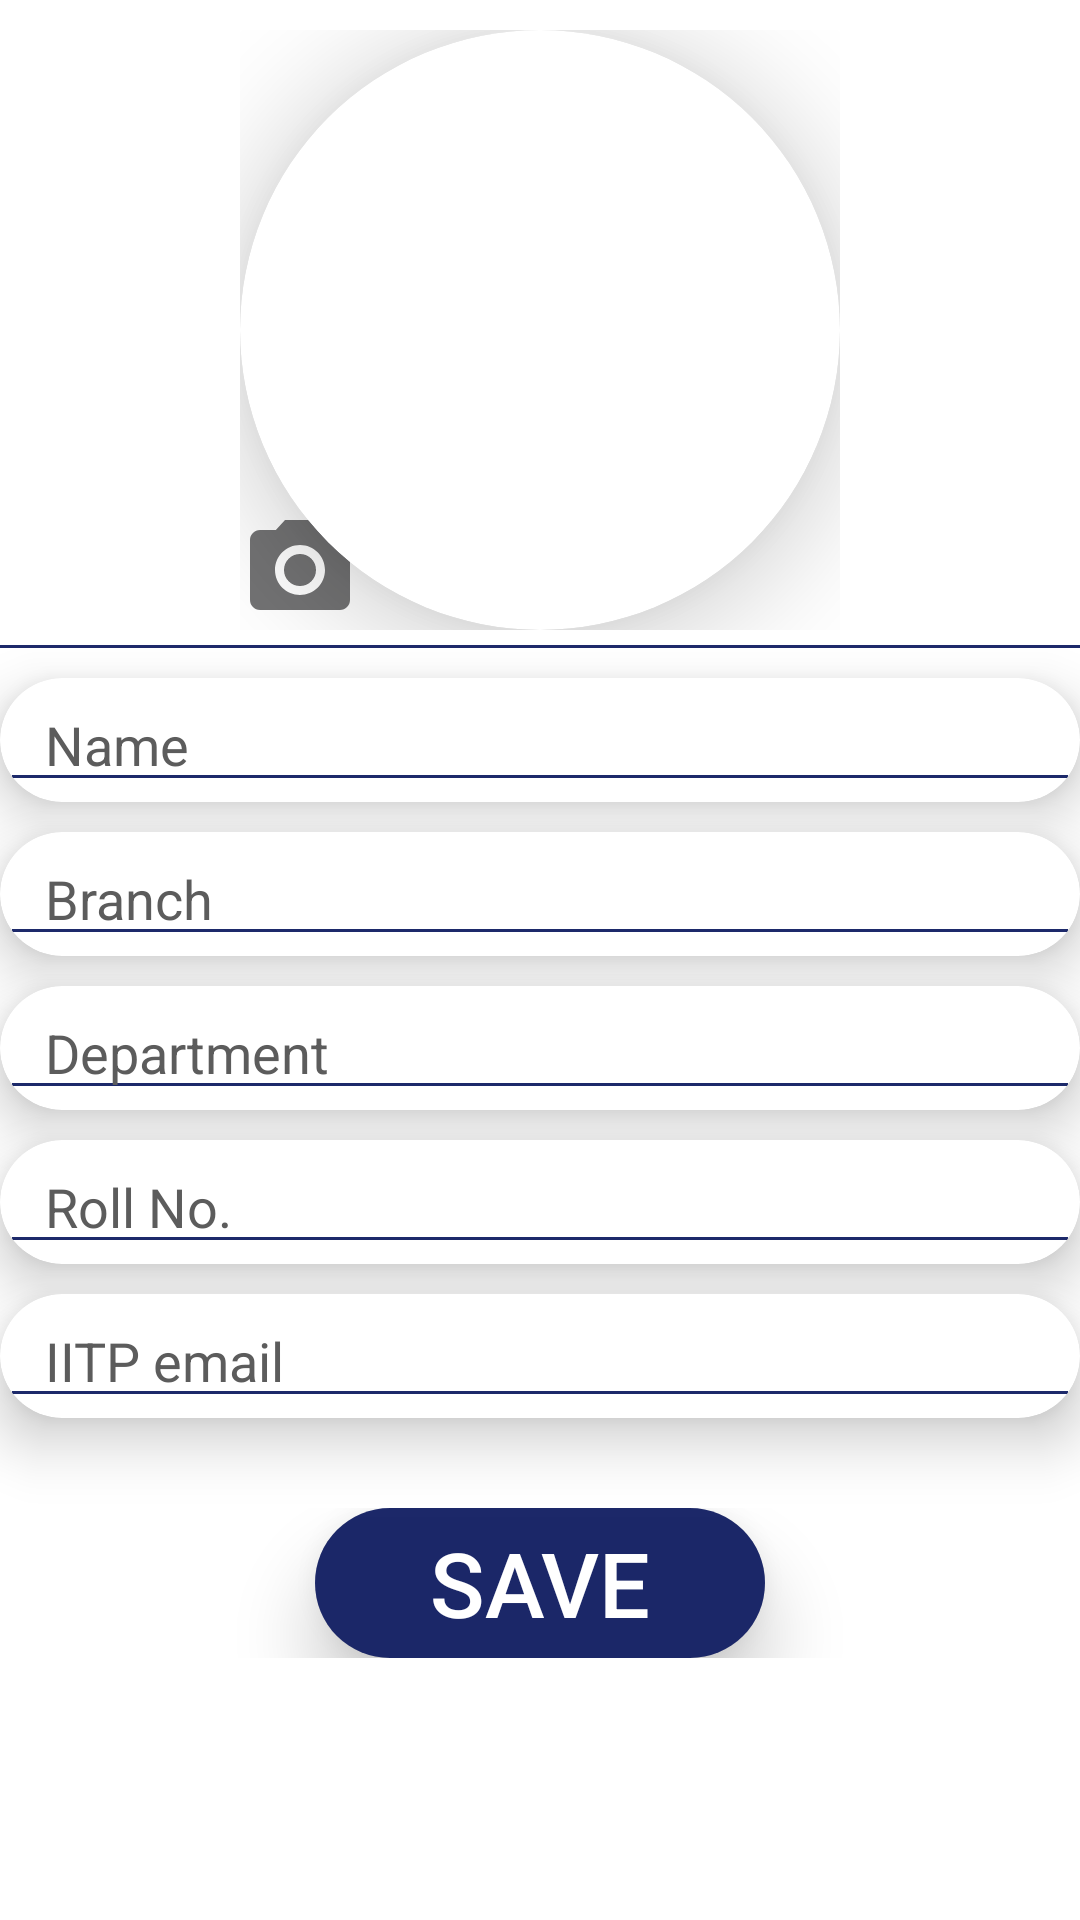

Named icons in this screenshot (1080w x 1920h) and their bounding boxes, (x1, y1, x2, y2):
photo camera: (250, 510, 360, 610)
